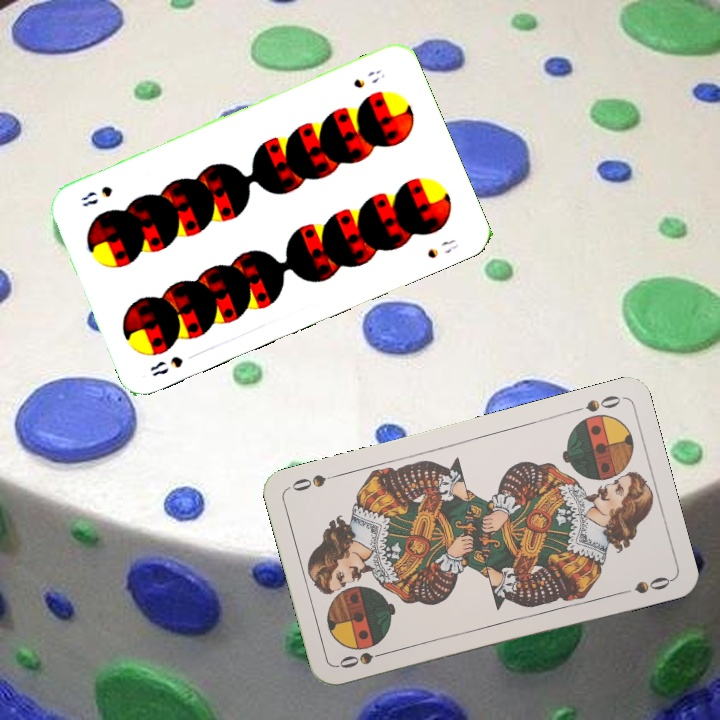S8: (145, 352, 186, 379), (349, 66, 388, 91)
SO: (335, 646, 393, 671), (566, 391, 624, 416)
